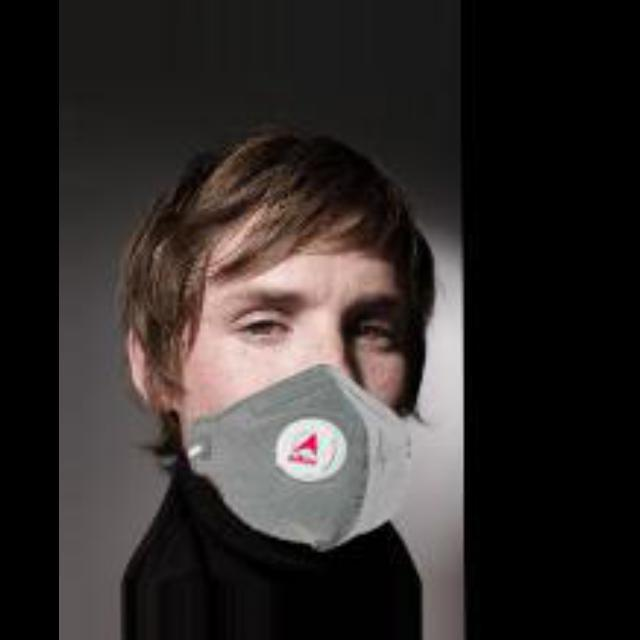suspicion: (114, 132, 462, 556)
